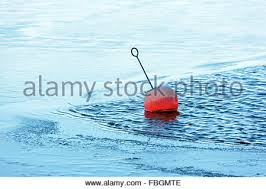buoy: (142, 86, 179, 115)
